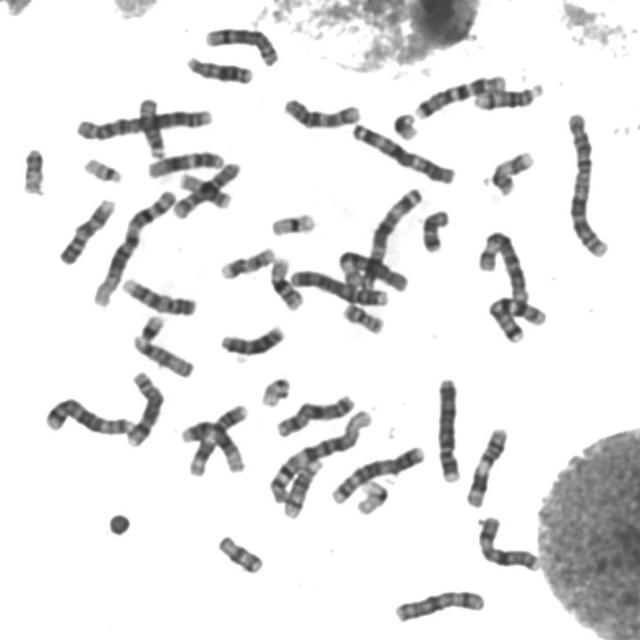A1: (265, 402, 375, 507), (89, 183, 180, 308)
A2: (561, 106, 612, 259), (72, 102, 215, 142)
A3: (352, 181, 426, 290), (346, 117, 458, 185)
B4: (287, 263, 392, 307), (432, 372, 466, 484)
B5: (326, 439, 428, 506), (39, 392, 137, 437)
C10: (169, 156, 243, 220), (279, 92, 365, 130)
C11: (184, 399, 250, 477), (462, 422, 511, 509)
C12: (175, 415, 247, 474), (144, 144, 228, 180)
C6: (473, 224, 532, 304), (333, 243, 412, 294)
C7: (411, 69, 509, 120), (484, 291, 552, 345)
C8: (200, 19, 282, 68), (121, 364, 167, 448)
C9: (55, 192, 118, 266), (117, 272, 200, 317)
D13: (216, 319, 288, 358), (182, 49, 257, 86)
D14: (278, 452, 325, 520), (470, 76, 547, 112)
D15: (128, 331, 197, 379), (134, 91, 168, 159)
E16: (170, 158, 241, 218), (266, 250, 307, 312)
E17: (487, 144, 538, 197), (216, 240, 278, 280)
E18: (213, 529, 267, 575), (417, 202, 454, 254)
F19: (266, 206, 319, 238), (352, 474, 392, 516)
F20: (338, 297, 388, 335), (17, 142, 47, 196)
G21: (388, 106, 422, 142), (134, 309, 168, 343)
G22: (79, 152, 125, 184), (256, 371, 294, 408)
X: (474, 509, 544, 573), (389, 583, 489, 624)
